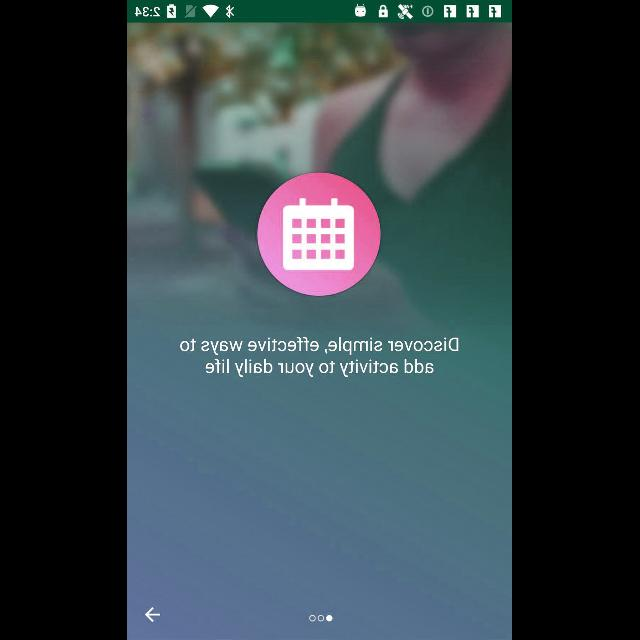backgroundimage: (128, 22, 512, 640)
icon: (145, 606, 161, 622)
image: (258, 173, 382, 297)
pageindicator: (309, 614, 333, 622)
text: (179, 337, 459, 378)
uppertaskbar: (128, 1, 512, 23)
